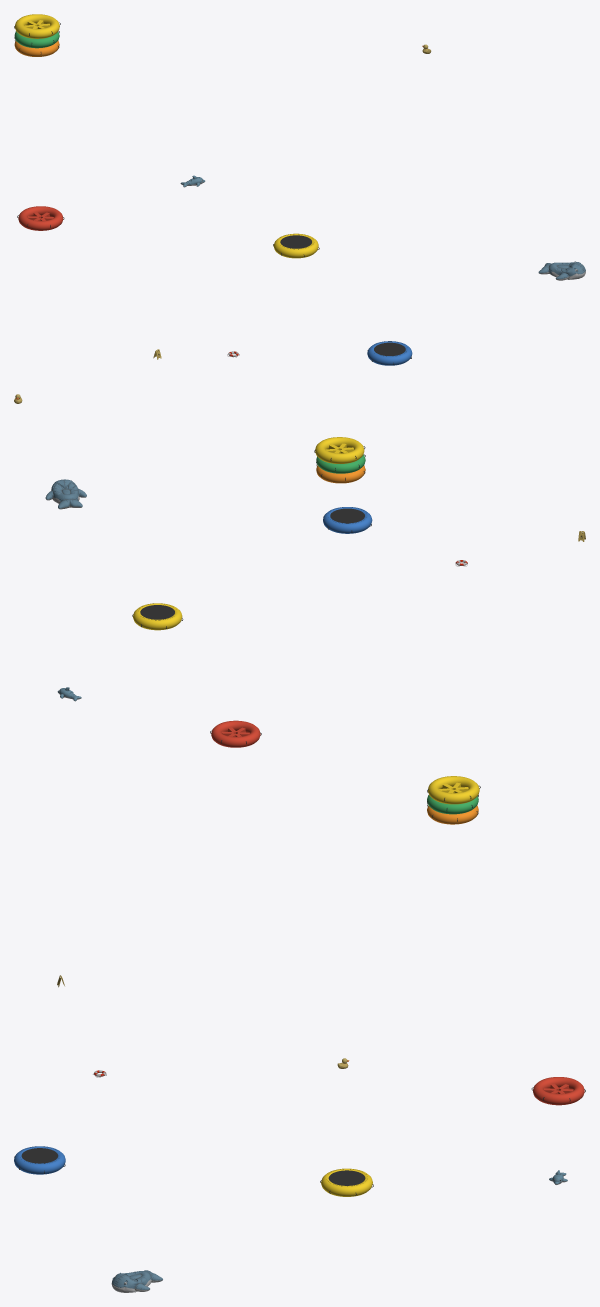
The model's file is inseguimento_B_prop.glb.
3 views of the same model, one above another, from view 1: azimuth 30°, elevation 25°; view 2: azimuth 150°, elevation 25°; view 3: azimuth 270°, elevation 25° (orthographic). The views are drawn at different scales.
Visible parts, largest first — view 1: ins_B_gommone_giallo, ins_B_gommone_pila_2, ins_B_gommone_rosso, ins_B_gommone_blu, prop_balena_gonfiabile_sgonfia_1; view 2: ins_B_gommone_giallo, ins_B_gommone_rosso, ins_B_gommone_pila_2, ins_B_gommone_blu, prop_balena_gonfiabile_sgonfia_1, ins_B_gommone_pila_0, ins_B_gommone_pila_1; view 3: ins_B_gommone_pila_2, ins_B_gommone_blu, ins_B_gommone_rosso, ins_B_gommone_giallo, prop_balena_gonfiabile_sgonfia_1.
Part boxes in pixels (x1,y1,x2,y2): ins_B_gommone_giallo: [273, 233, 319, 258]; ins_B_gommone_pila_2: [14, 14, 60, 38]; ins_B_gommone_rosso: [17, 206, 64, 230]; ins_B_gommone_blu: [367, 341, 412, 365]; prop_balena_gonfiabile_sgonfia_1: [538, 261, 585, 280]; ins_B_gommone_giallo: [132, 603, 183, 630]; ins_B_gommone_rosso: [210, 720, 261, 747]; ins_B_gommone_pila_2: [314, 437, 365, 463]; ins_B_gommone_blu: [323, 507, 372, 533]; prop_balena_gonfiabile_sgonfia_1: [45, 479, 86, 509]; ins_B_gommone_pila_0: [316, 464, 365, 483]; ins_B_gommone_pila_1: [316, 454, 365, 473]; ins_B_gommone_pila_2: [427, 776, 480, 804]; ins_B_gommone_blu: [14, 1146, 65, 1174]; ins_B_gommone_rosso: [531, 1077, 585, 1105]; ins_B_gommone_giallo: [320, 1168, 373, 1196]; prop_balena_gonfiabile_sgonfia_1: [111, 1270, 162, 1292].
Size of the model in its own units: 34.46 by 17.72 by 32.41.
11 materials, 5 textured.
